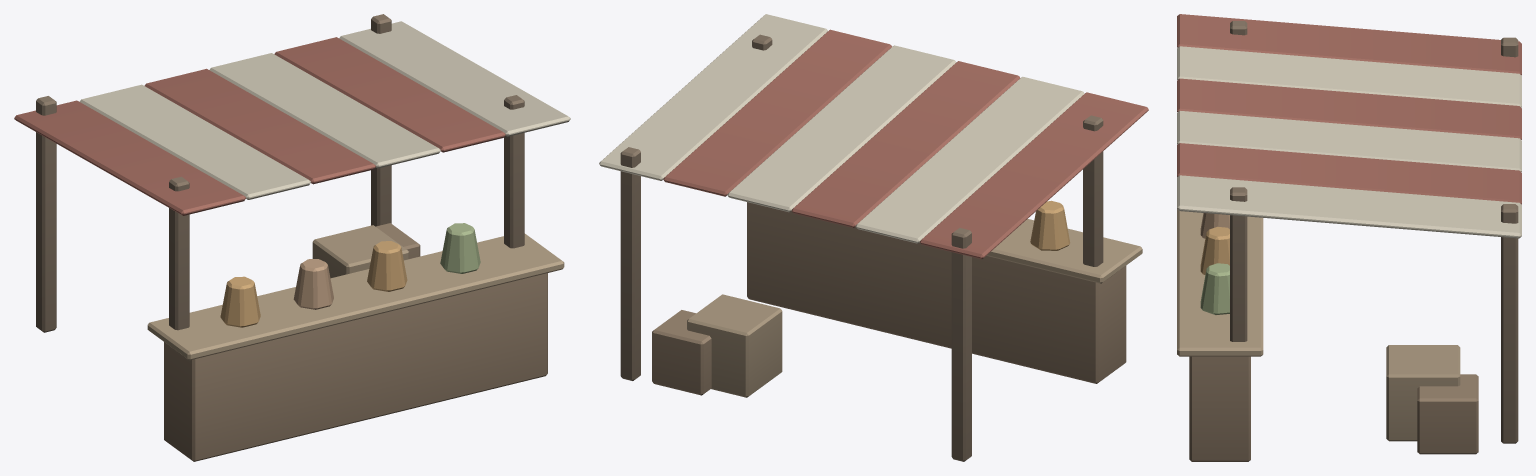
The model's file is iv_stall.glb.
3 views of the same model, side by side, from view 1: azimuth 30°, elevation 25°; view 2: azimuth 150°, elevation 25°; view 3: azimuth 270°, elevation 25° (orthographic). The views are drawn at different scales.
Parts seen in each view (by area): view 1: iv_stall; view 2: iv_stall; view 3: iv_stall.
Part boxes in pixels (<box>): iv_stall: <box>14,14,570,461</box>; iv_stall: <box>599,14,1148,461</box>; iv_stall: <box>1177,14,1521,461</box>.
Size of the model in its own units: 3.72 by 2.4 by 2.8.
